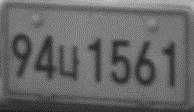1: (162, 39, 178, 89), (86, 37, 103, 83)
4: (32, 34, 56, 81)
5: (110, 39, 131, 84)
6: (134, 38, 158, 86)
9: (9, 31, 33, 78)
나: (56, 44, 81, 81)
